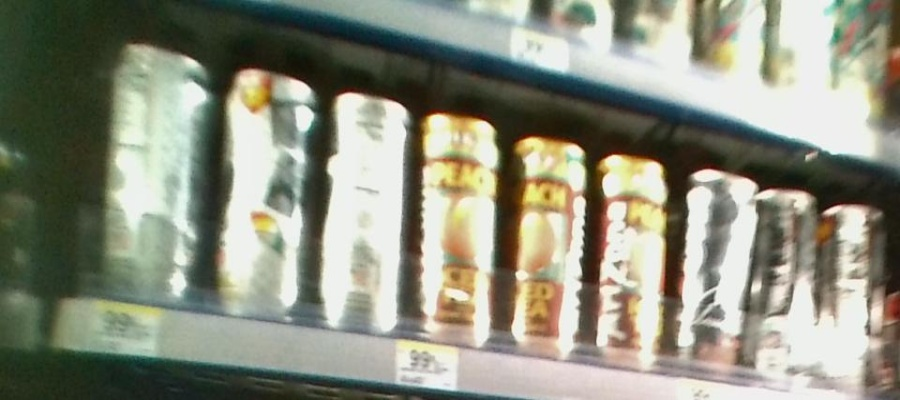bottle: (98, 35, 215, 314), (214, 57, 323, 323), (502, 114, 592, 375), (414, 89, 502, 353), (328, 78, 412, 338), (671, 153, 758, 376), (593, 133, 671, 375), (759, 166, 824, 386), (826, 193, 889, 399)
